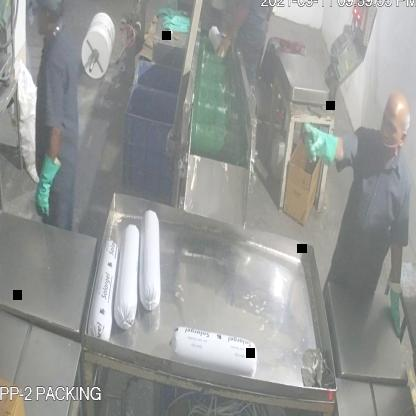glove: (32, 155, 66, 226), (302, 116, 341, 176), (384, 272, 408, 350)
no_glove: (213, 0, 248, 62)
